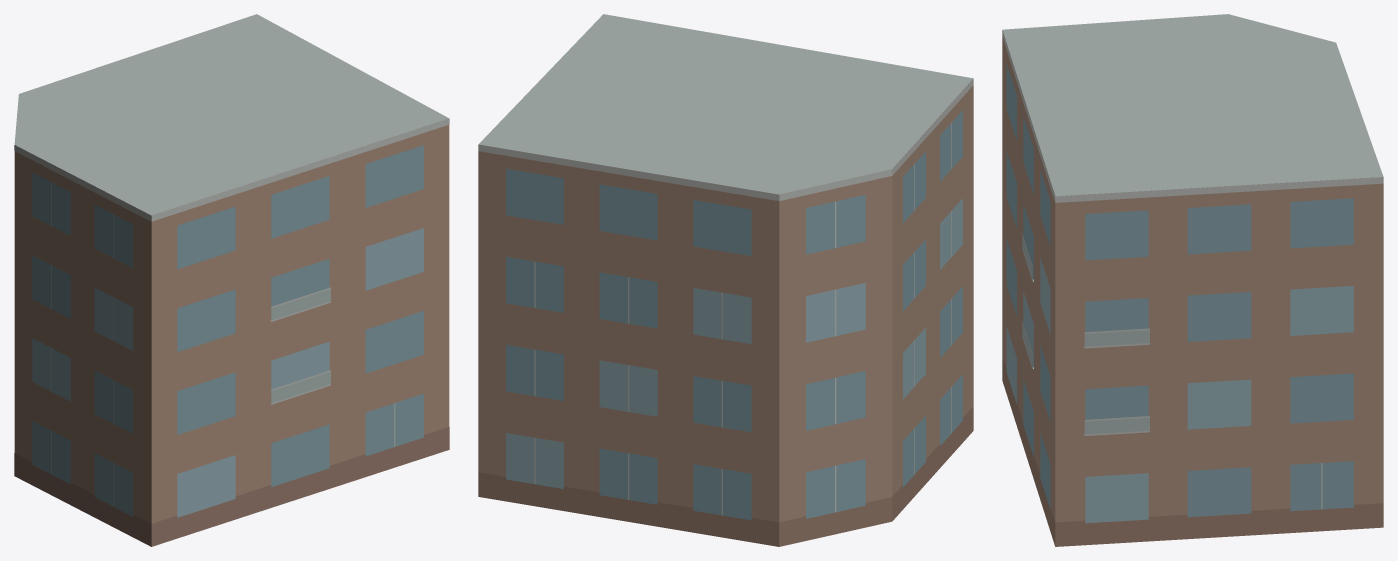
The model's file is survey-upis-32969922.glb.
3 views of the same model, side by side, from view 1: azimuth 30°, elevation 25°; view 2: azimuth 150°, elevation 25°; view 3: azimuth 270°, elevation 25° (orthographic). The views are drawn at different scales.
Visible parts, largest first — view 1: survey-upis-32969922.tmp; view 2: survey-upis-32969922.tmp; view 3: survey-upis-32969922.tmp.
Part boxes in pixels (x1,y1,x2,y2): survey-upis-32969922.tmp: (14,14,449,546); survey-upis-32969922.tmp: (478,14,973,546); survey-upis-32969922.tmp: (1002,14,1383,546).
Size of the model in its own units: 14.52 by 13 by 12.83.
